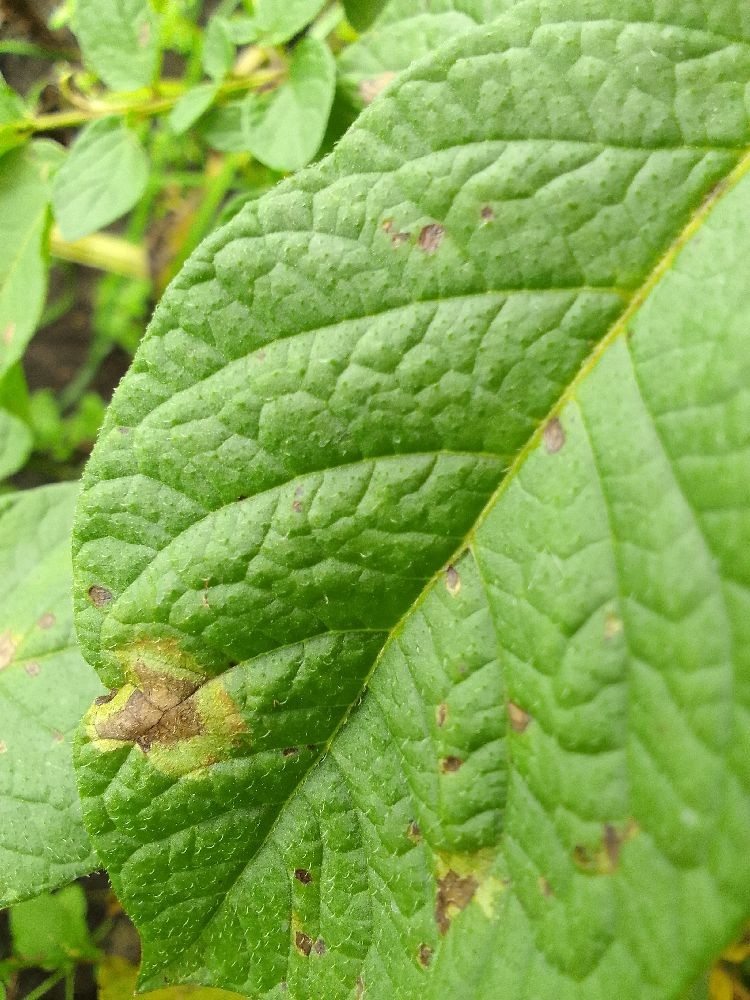late_blight: (7, 169, 218, 414), (0, 855, 159, 1000), (86, 648, 221, 767), (0, 0, 106, 132)
